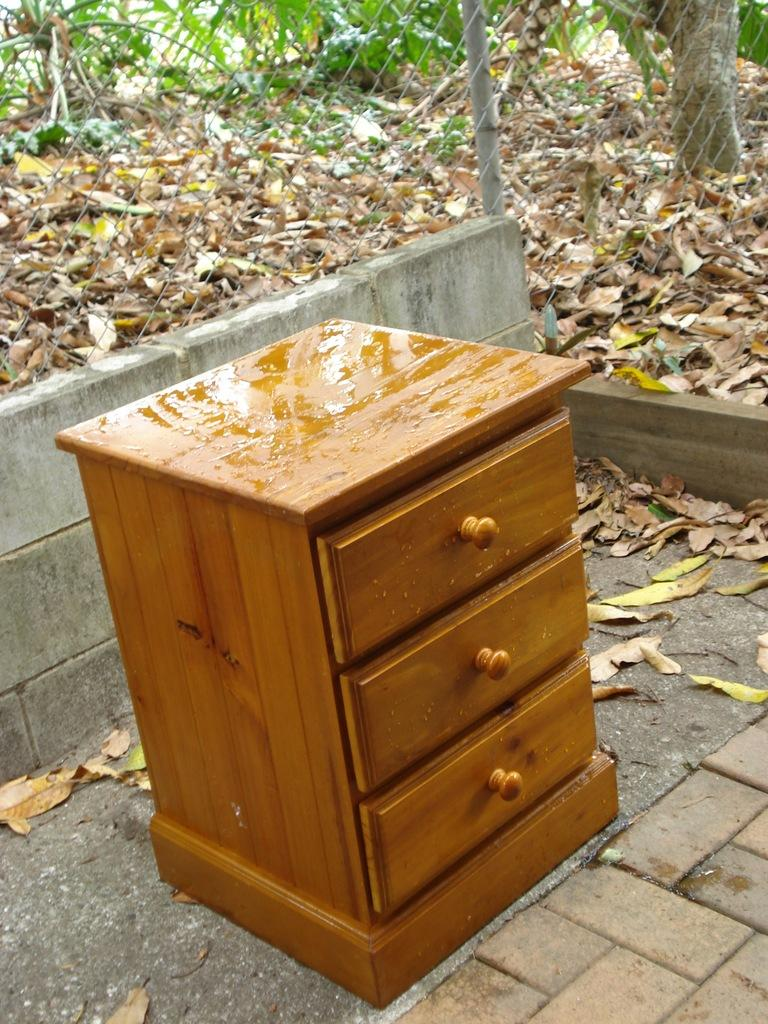cabinet_door: (324, 422, 576, 560), (370, 714, 590, 839), (380, 589, 582, 694)
handle: (461, 496, 498, 554), (488, 746, 519, 810), (477, 637, 515, 681)
